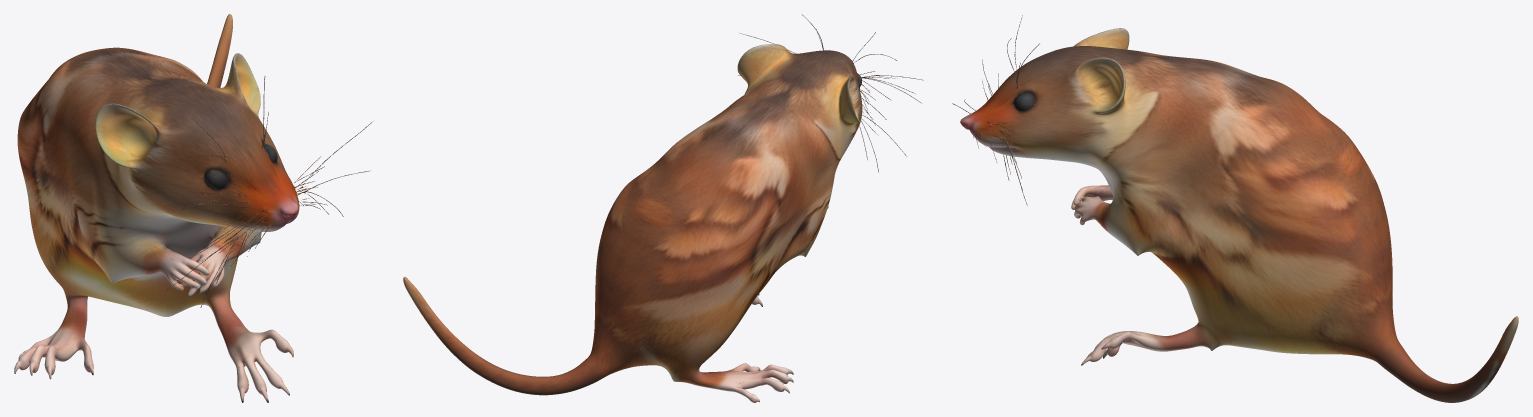
Rendered from mouse.glb.
3 renders of one model, left to right at view 1: azimuth 30°, elevation 25°; view 2: azimuth 150°, elevation 25°; view 3: azimuth 270°, elevation 25°, orthographic. The views are drawn at different scales.
Bounding box in the file's own units: 1.3 × 1.26 × 2.
Materials: 1 (1 with a texture image).
